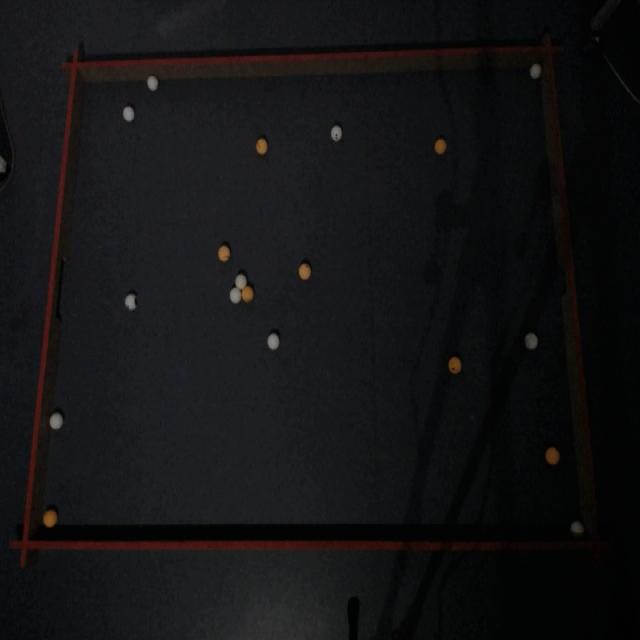orange_ball: (545, 446, 560, 466), (43, 509, 57, 528), (434, 138, 447, 156), (241, 285, 254, 302), (218, 244, 230, 262), (299, 264, 311, 280), (256, 139, 266, 154), (450, 359, 460, 374)
white_ball: (49, 412, 64, 431), (524, 333, 538, 350), (267, 332, 280, 350), (570, 520, 584, 536), (123, 105, 135, 122), (235, 272, 247, 289), (146, 75, 158, 91), (530, 63, 542, 79), (230, 288, 242, 304), (331, 125, 342, 142), (126, 299, 136, 311)
